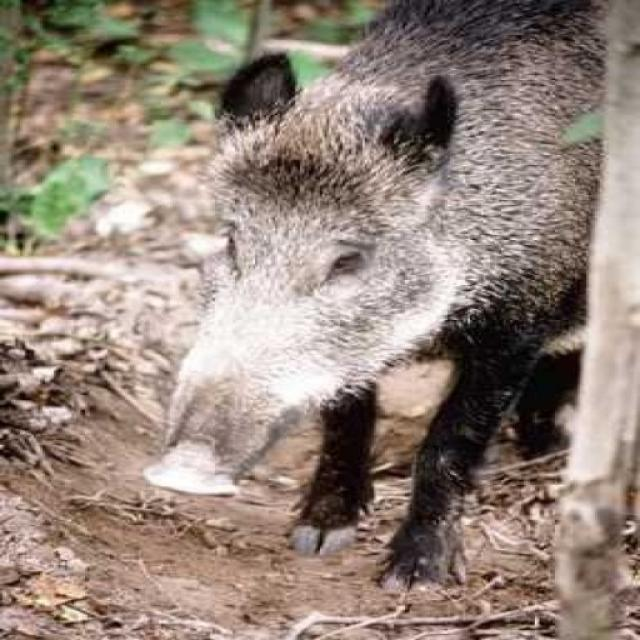pig: (118, 0, 640, 598)
